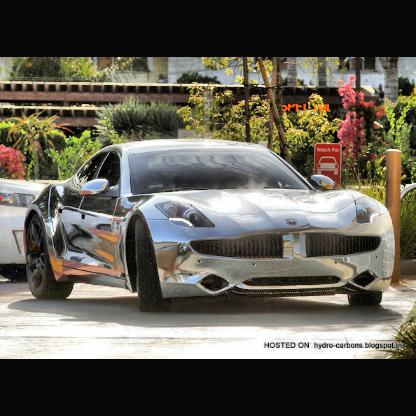Fisker Karma Sedan 2012: (23, 139, 399, 316)
